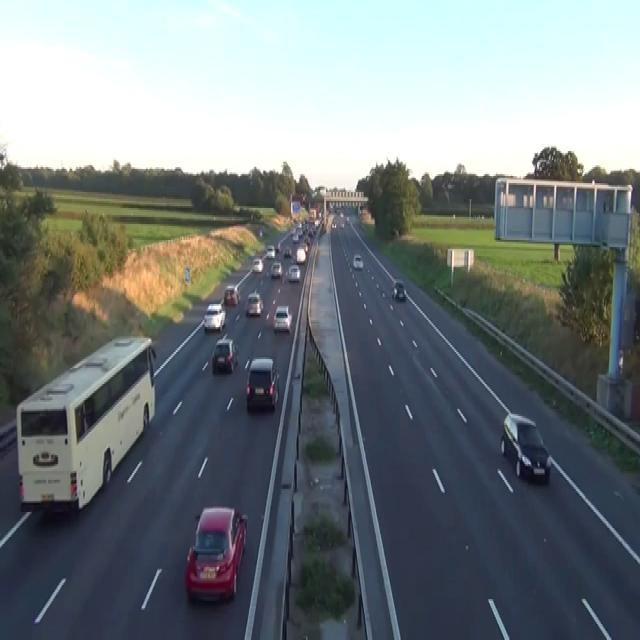Car: (185, 505, 247, 603), (500, 412, 551, 483), (246, 356, 279, 410), (211, 338, 238, 373), (203, 302, 226, 331), (273, 304, 292, 332), (245, 292, 263, 316), (223, 284, 240, 306), (392, 279, 406, 301), (287, 263, 300, 283), (270, 262, 282, 278), (296, 247, 306, 263), (352, 254, 363, 268), (252, 258, 263, 272), (266, 244, 275, 258), (283, 245, 291, 258), (234, 286, 240, 302), (292, 233, 299, 242), (314, 218, 319, 228), (329, 202, 334, 212), (308, 228, 314, 236), (305, 237, 310, 246), (275, 242, 280, 250), (331, 220, 336, 228), (303, 242, 308, 250), (345, 215, 349, 224), (322, 224, 326, 233), (339, 210, 344, 217), (340, 220, 344, 228), (259, 228, 262, 236), (318, 210, 321, 218)
Truck: (16, 334, 156, 514)
